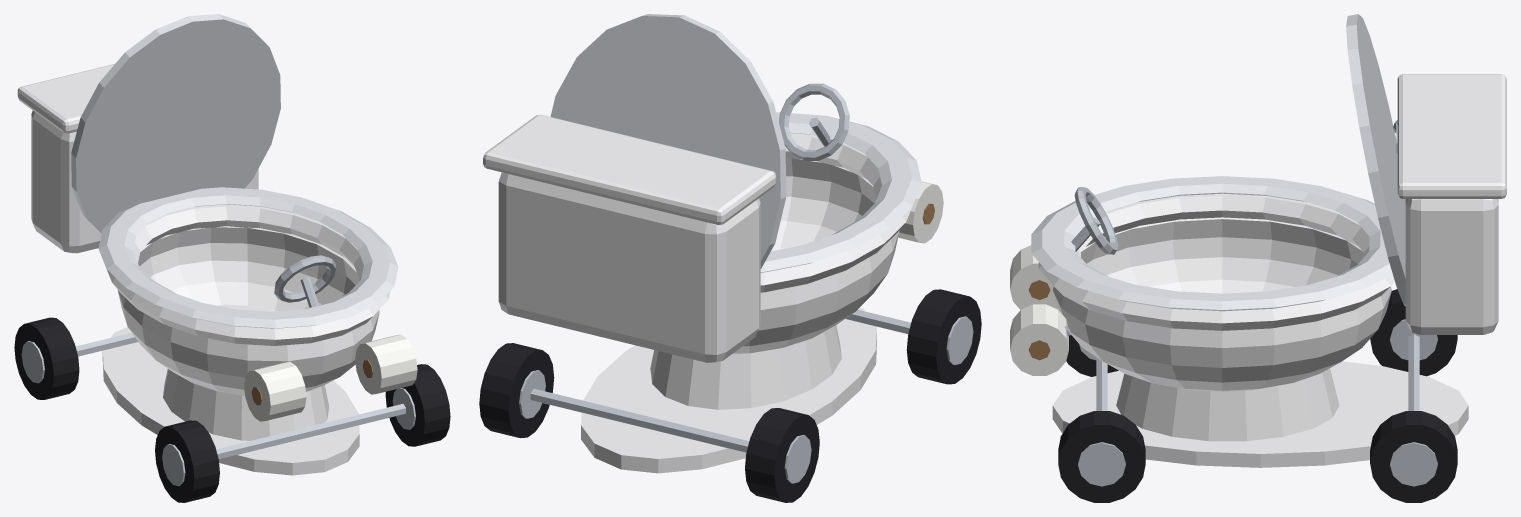
File: ride_toilet.fbx
3 views of the same model, side by side, from view 1: azimuth 30°, elevation 25°; view 2: azimuth 150°, elevation 25°; view 3: azimuth 270°, elevation 25° (orthographic). The views are drawn at different scales.
Parts seen in each view (by area): view 1: ride_toilet; view 2: ride_toilet; view 3: ride_toilet.
Boxes of the visible parts, x1,y1,x2,y2 form: ride_toilet: [14, 14, 450, 502]; ride_toilet: [479, 14, 981, 502]; ride_toilet: [1010, 14, 1506, 502].
Bounding box in the file's own units: 304 × 412 × 454.
Materials: 1 (1 with a texture image).
